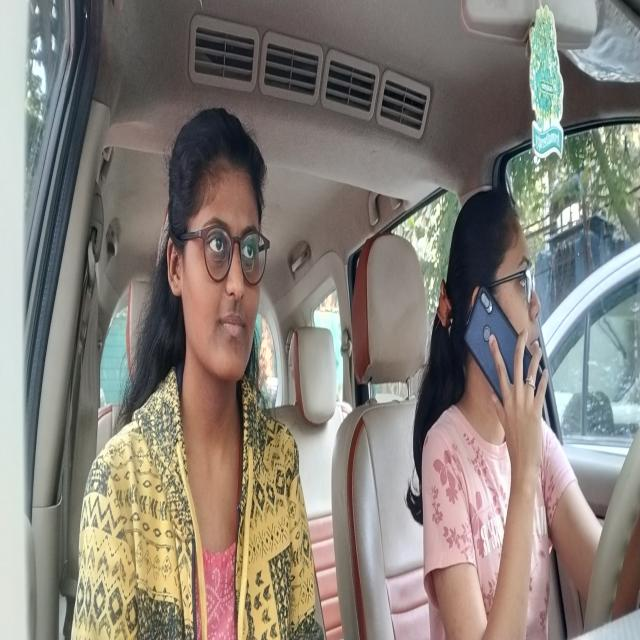mobile: (466, 282, 540, 416)
person: (165, 102, 270, 392), (452, 186, 552, 429)
